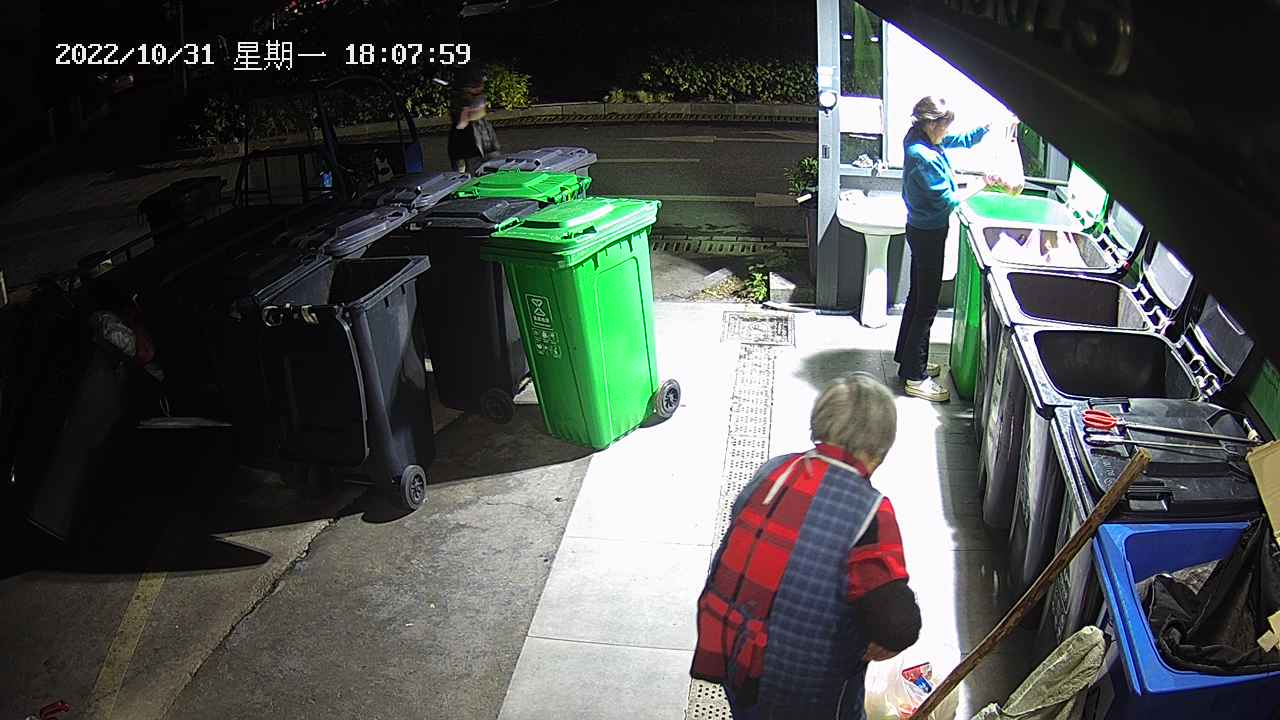garbage-bag: (862, 652, 960, 720), (984, 114, 1026, 199)
person: (686, 368, 922, 720)
worker: (892, 94, 993, 404)
